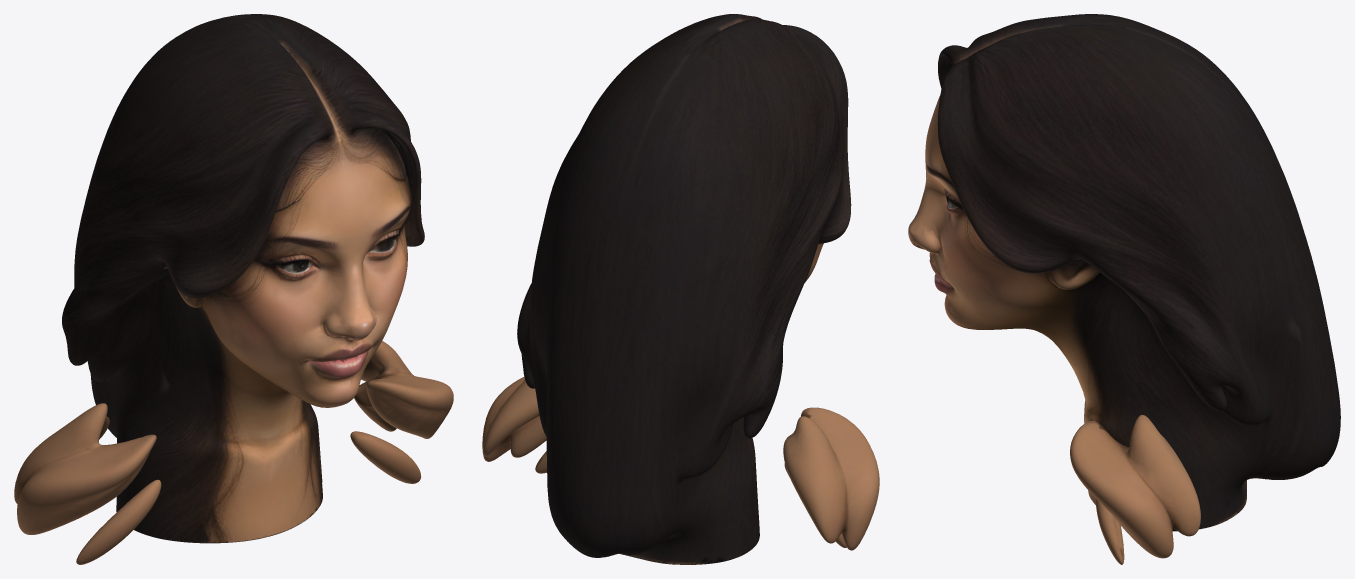
Rendered from lightskin-female.glb.
3 renders of one model, left to right at view 1: azimuth 30°, elevation 25°; view 2: azimuth 150°, elevation 25°; view 3: azimuth 270°, elevation 25°, orthographic. The views are drawn at different scales.
Parts seen in each view (by area): view 1: node_0; view 2: node_0; view 3: node_0.
Boxes of the visible parts, x1,y1,x2,y2 form: node_0: [14, 14, 453, 564]; node_0: [482, 14, 879, 564]; node_0: [908, 14, 1340, 564].
Size of the model in its own units: 0.8388 by 0.9696 by 0.8122.
Materials: 1 (1 with a texture image).
